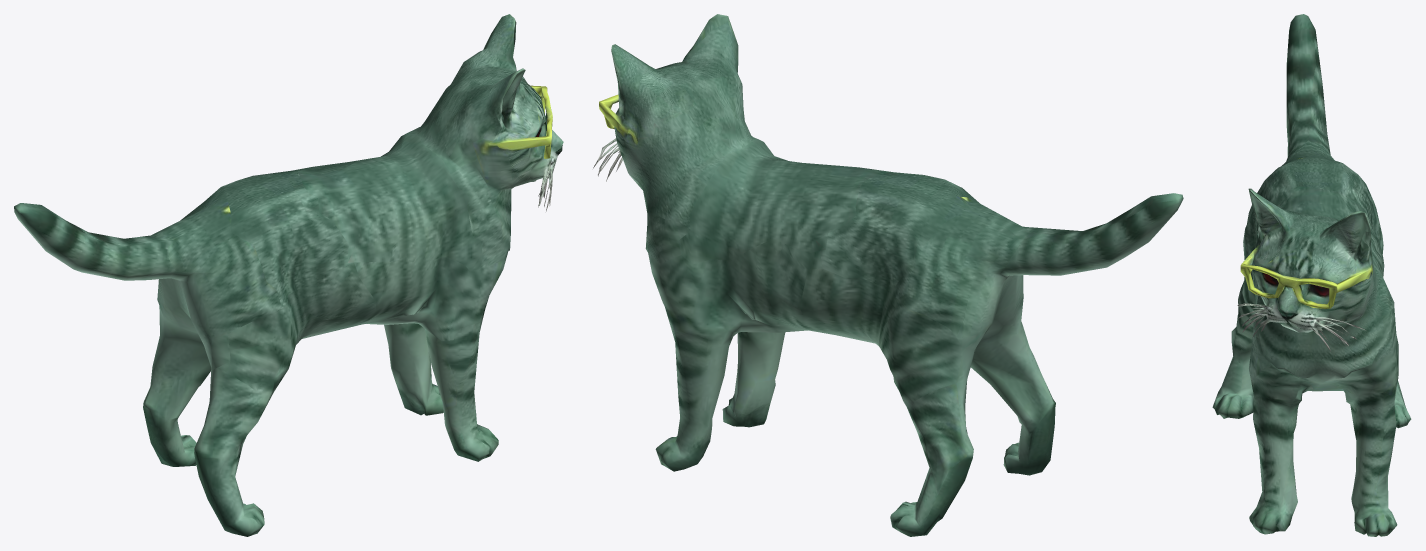
File: KNITPAW-lo.glb
3 renders of one model, left to right at view 1: azimuth 30°, elevation 25°; view 2: azimuth 150°, elevation 25°; view 3: azimuth 270°, elevation 25°, orthographic. The views are drawn at different scales.
Parts seen in each view (by area): view 1: tripo_node_876a0ba1-cef4-49b9-842b-310cd42fea12; view 2: tripo_node_876a0ba1-cef4-49b9-842b-310cd42fea12; view 3: tripo_node_876a0ba1-cef4-49b9-842b-310cd42fea12.
Boxes of the visible parts, <box> form: tripo_node_876a0ba1-cef4-49b9-842b-310cd42fea12: <box>14,14,563,536</box>; tripo_node_876a0ba1-cef4-49b9-842b-310cd42fea12: <box>593,14,1183,536</box>; tripo_node_876a0ba1-cef4-49b9-842b-310cd42fea12: <box>1212,14,1411,536</box>.
Bounding box in the file's own units: 1.49 × 0.9993 × 0.5079.
Materials: 1 (1 with a texture image).
